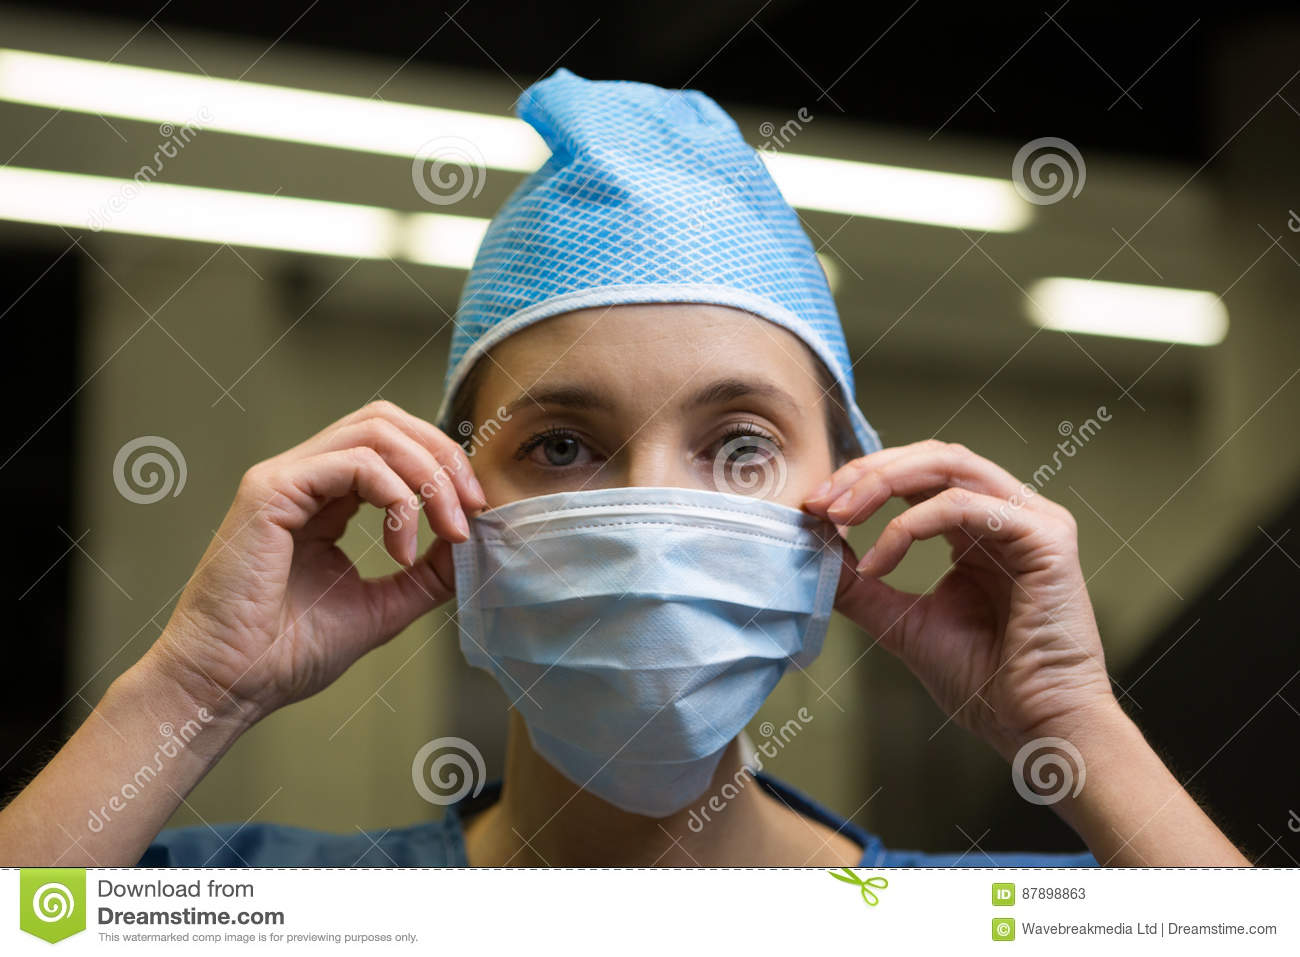mask: (447, 486, 835, 824)
